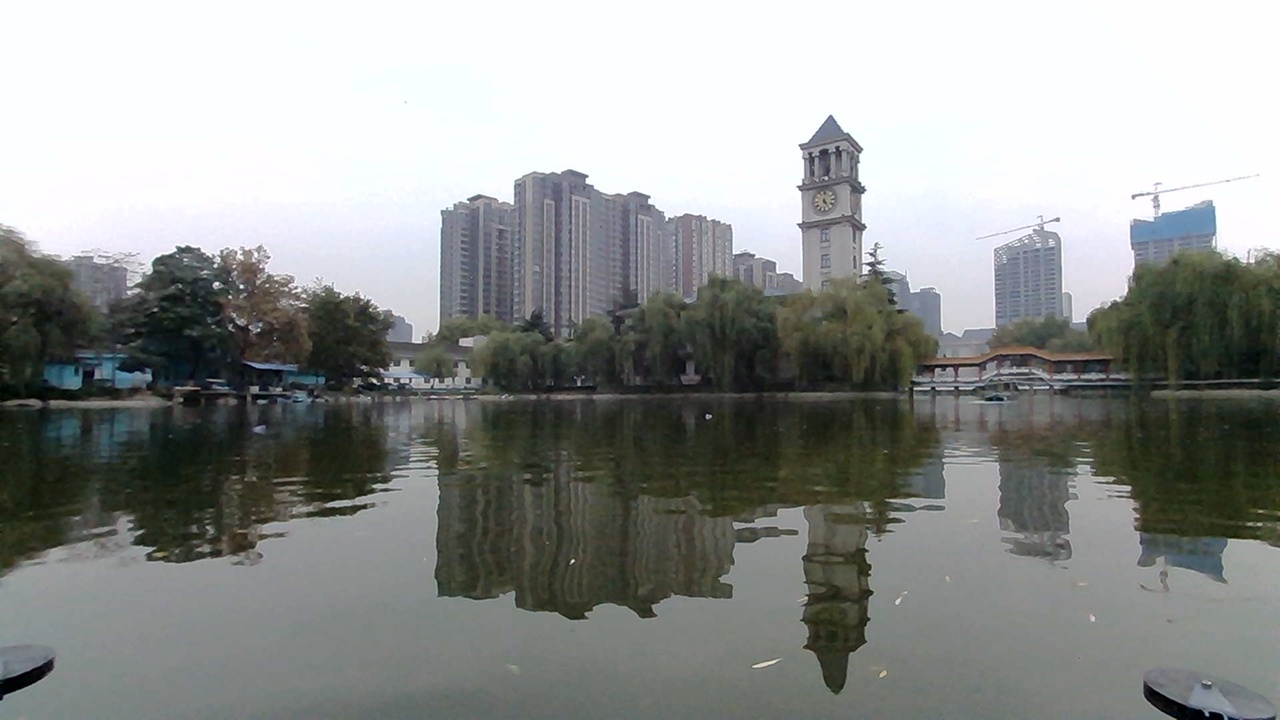bottle: (244, 411, 290, 443), (690, 400, 724, 428)
